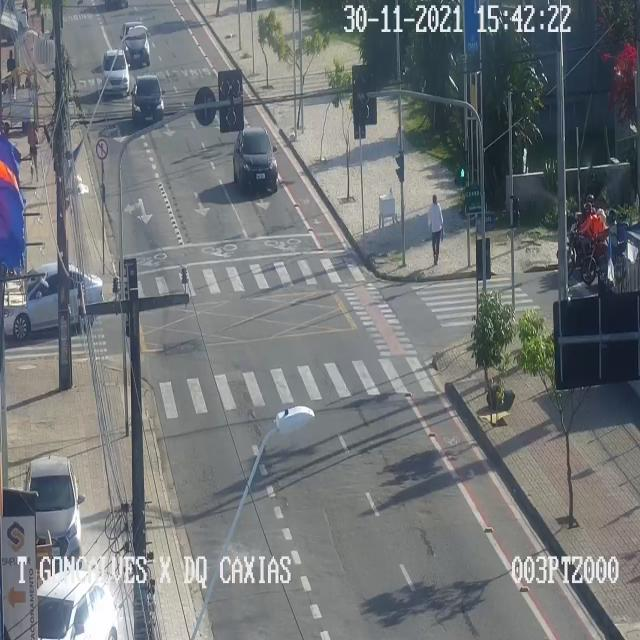Car: (3, 263, 102, 333), (24, 456, 84, 561), (36, 569, 118, 639), (234, 124, 280, 193), (129, 72, 163, 124), (119, 18, 151, 66), (101, 50, 129, 96)
Motorcycle: (582, 207, 634, 285), (565, 206, 609, 276)
